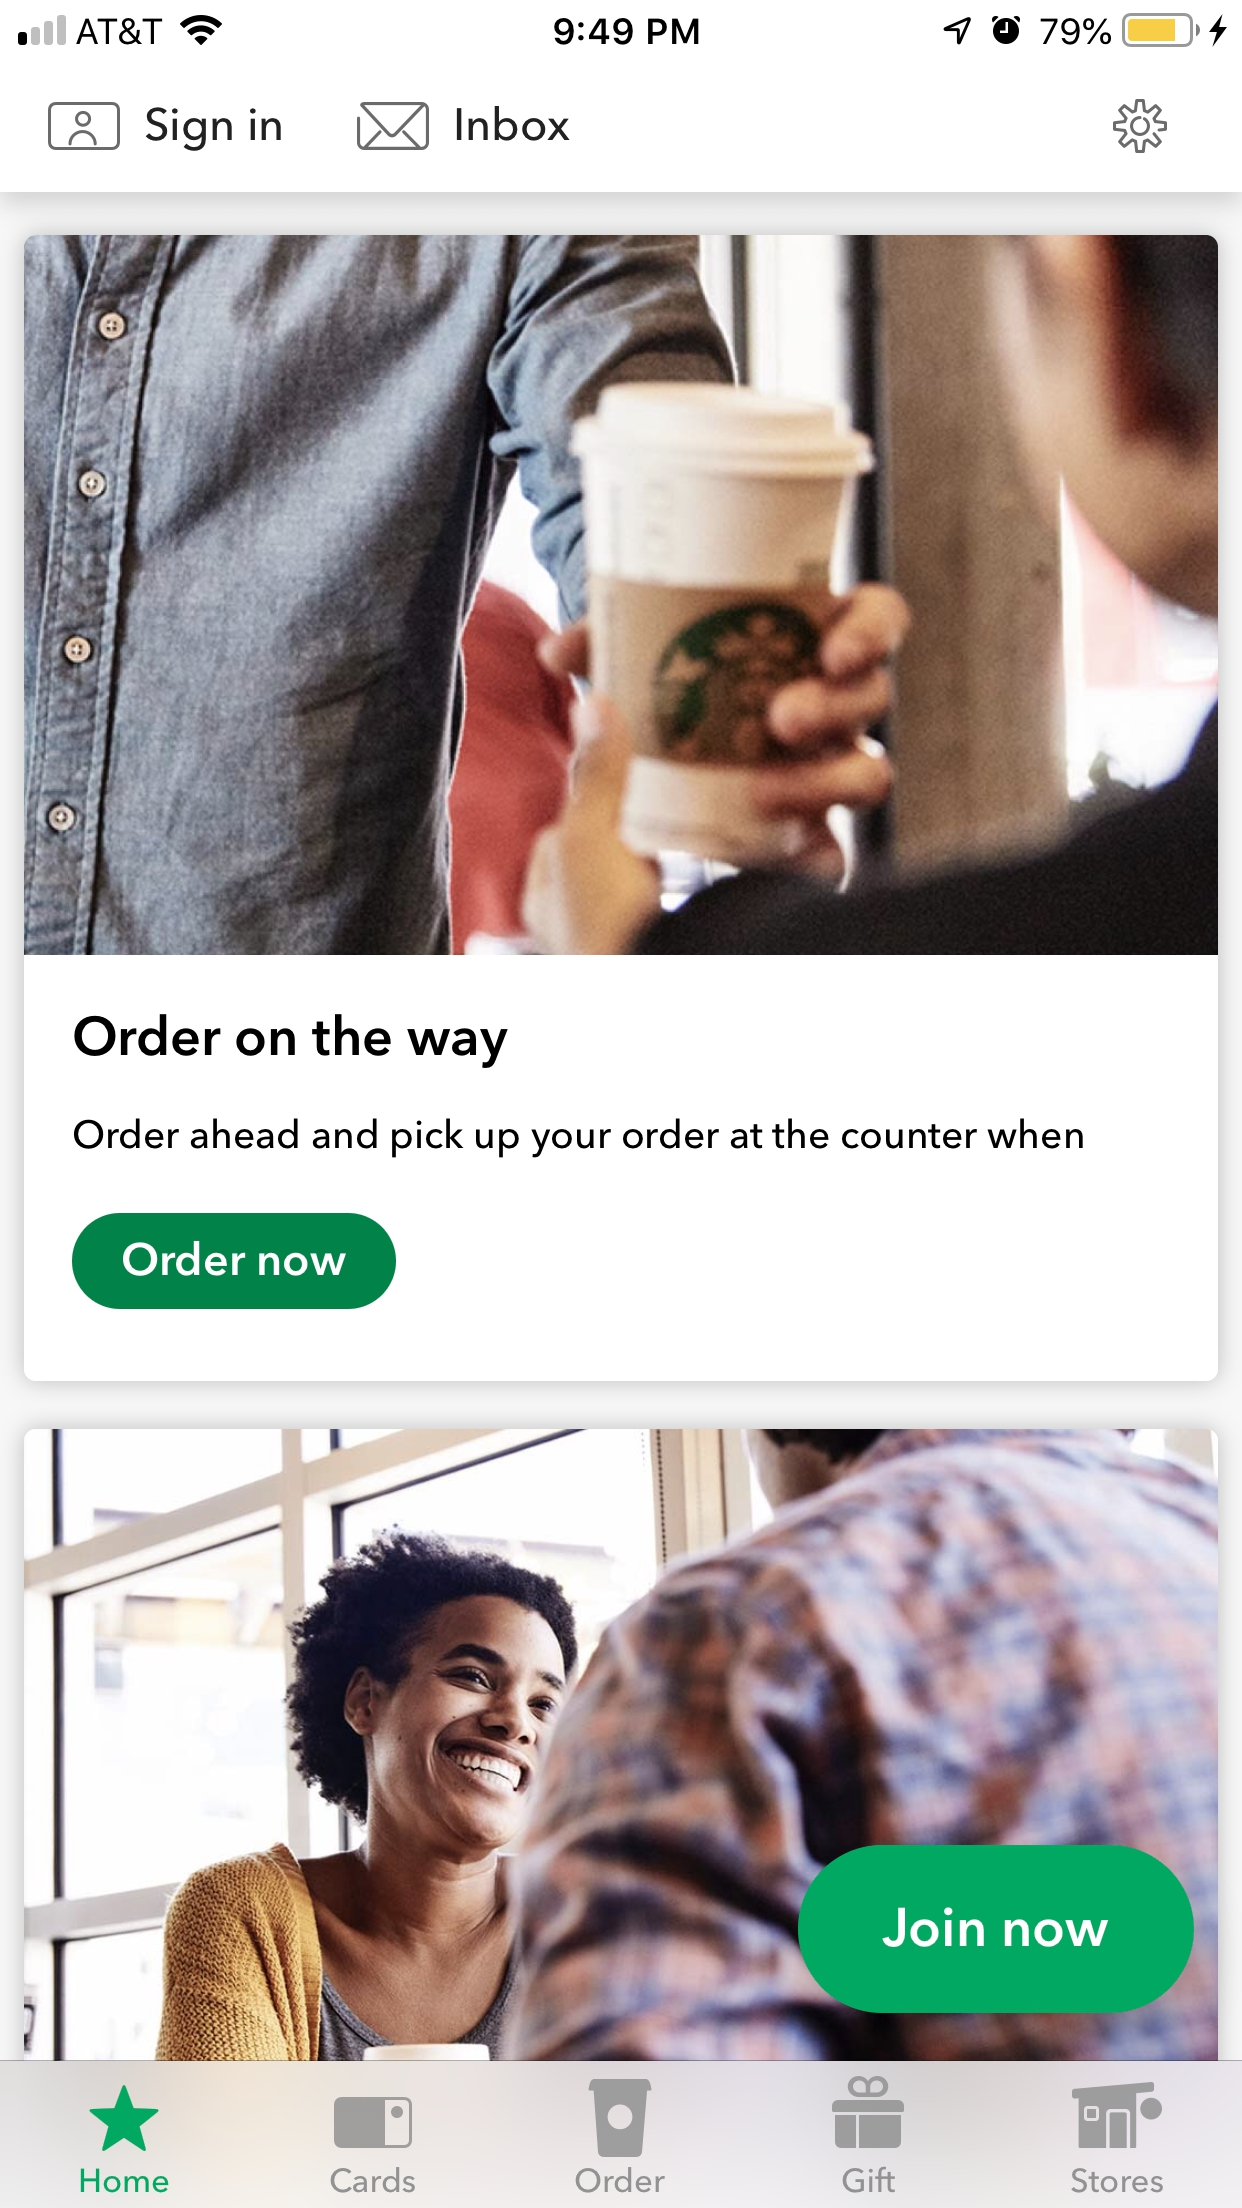Icon: (831, 2075, 905, 2149), (89, 2085, 161, 2152), (334, 2096, 414, 2149), (356, 102, 431, 152), (49, 102, 121, 152), (1113, 99, 1168, 155)
Image: (24, 235, 1218, 955), (23, 1429, 1218, 2061), (1071, 2081, 1163, 2149), (588, 2078, 654, 2158)
Text: (74, 1118, 1084, 1160), (74, 1013, 510, 1071), (146, 108, 282, 153), (456, 106, 572, 143), (331, 2166, 417, 2194), (576, 2166, 667, 2193), (1071, 2167, 1163, 2193), (80, 2169, 170, 2193), (842, 2166, 898, 2193)
TextButton: (798, 1844, 1195, 2014), (71, 1212, 397, 1310)
UpperTaskBar: (2, 2, 1242, 49)
